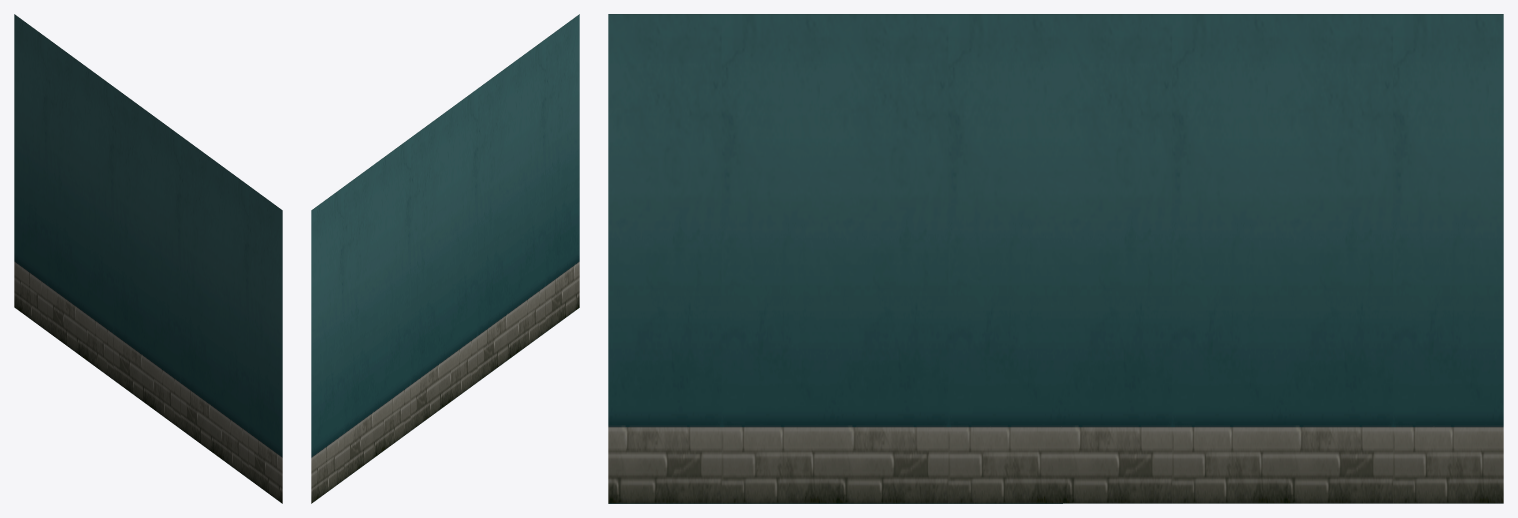
Rendered from K1_bizhi3.FBX.
3 renders of one model, left to right at view 1: azimuth 30°, elevation 25°; view 2: azimuth 150°, elevation 25°; view 3: azimuth 270°, elevation 25°, orthographic. The views are drawn at different scales.
Visible parts, largest first — view 1: YHT_bizhi3; view 2: YHT_bizhi3; view 3: YHT_bizhi3.
Boxes of the visible parts, left/top/right/bottom form: YHT_bizhi3: left=14, top=14, right=282, bottom=503; YHT_bizhi3: left=311, top=14, right=579, bottom=503; YHT_bizhi3: left=608, top=14, right=1503, bottom=503.
Size of the model in its own units: 0 by 2.86 by 4.74.
